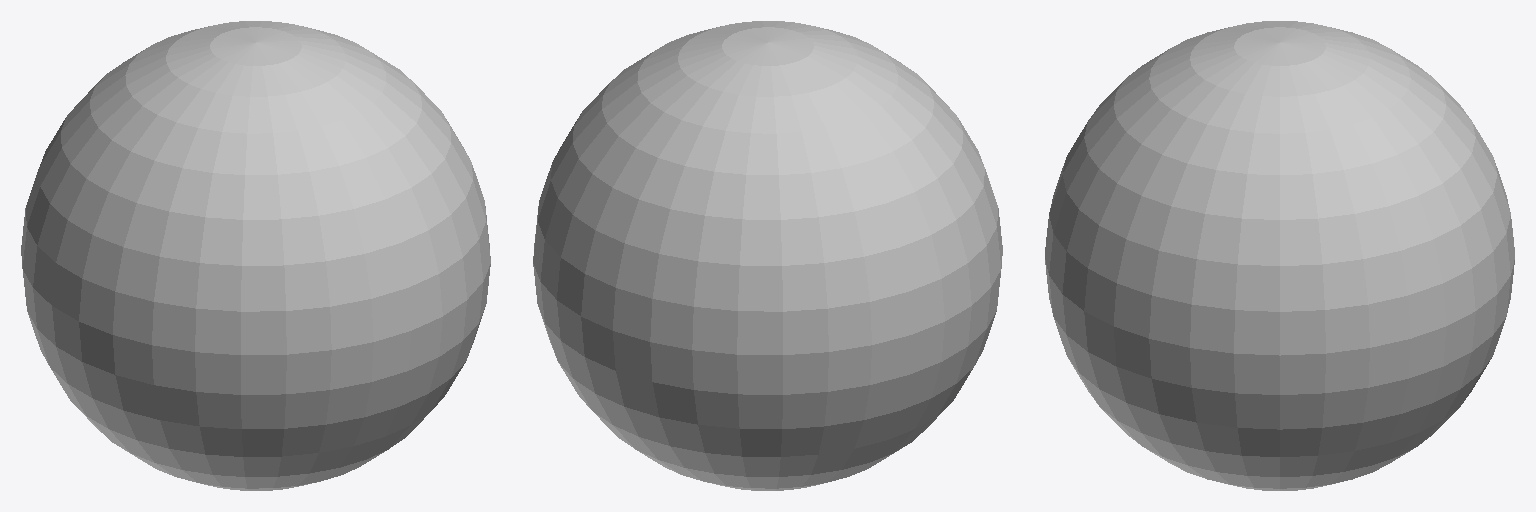
The model's file is venus.obj.
3 views of the same model, side by side, from view 1: azimuth 30°, elevation 25°; view 2: azimuth 150°, elevation 25°; view 3: azimuth 270°, elevation 25° (orthographic).
Visible parts, largest first — view 1: Сфера; view 2: Сфера; view 3: Сфера.
Part boxes in pixels (bbox=[...]): Сфера: bbox=[21, 21, 490, 490]; Сфера: bbox=[533, 21, 1002, 490]; Сфера: bbox=[1045, 21, 1514, 490].
Size of the model in its own units: 0.2736 by 0.2736 by 0.2736.